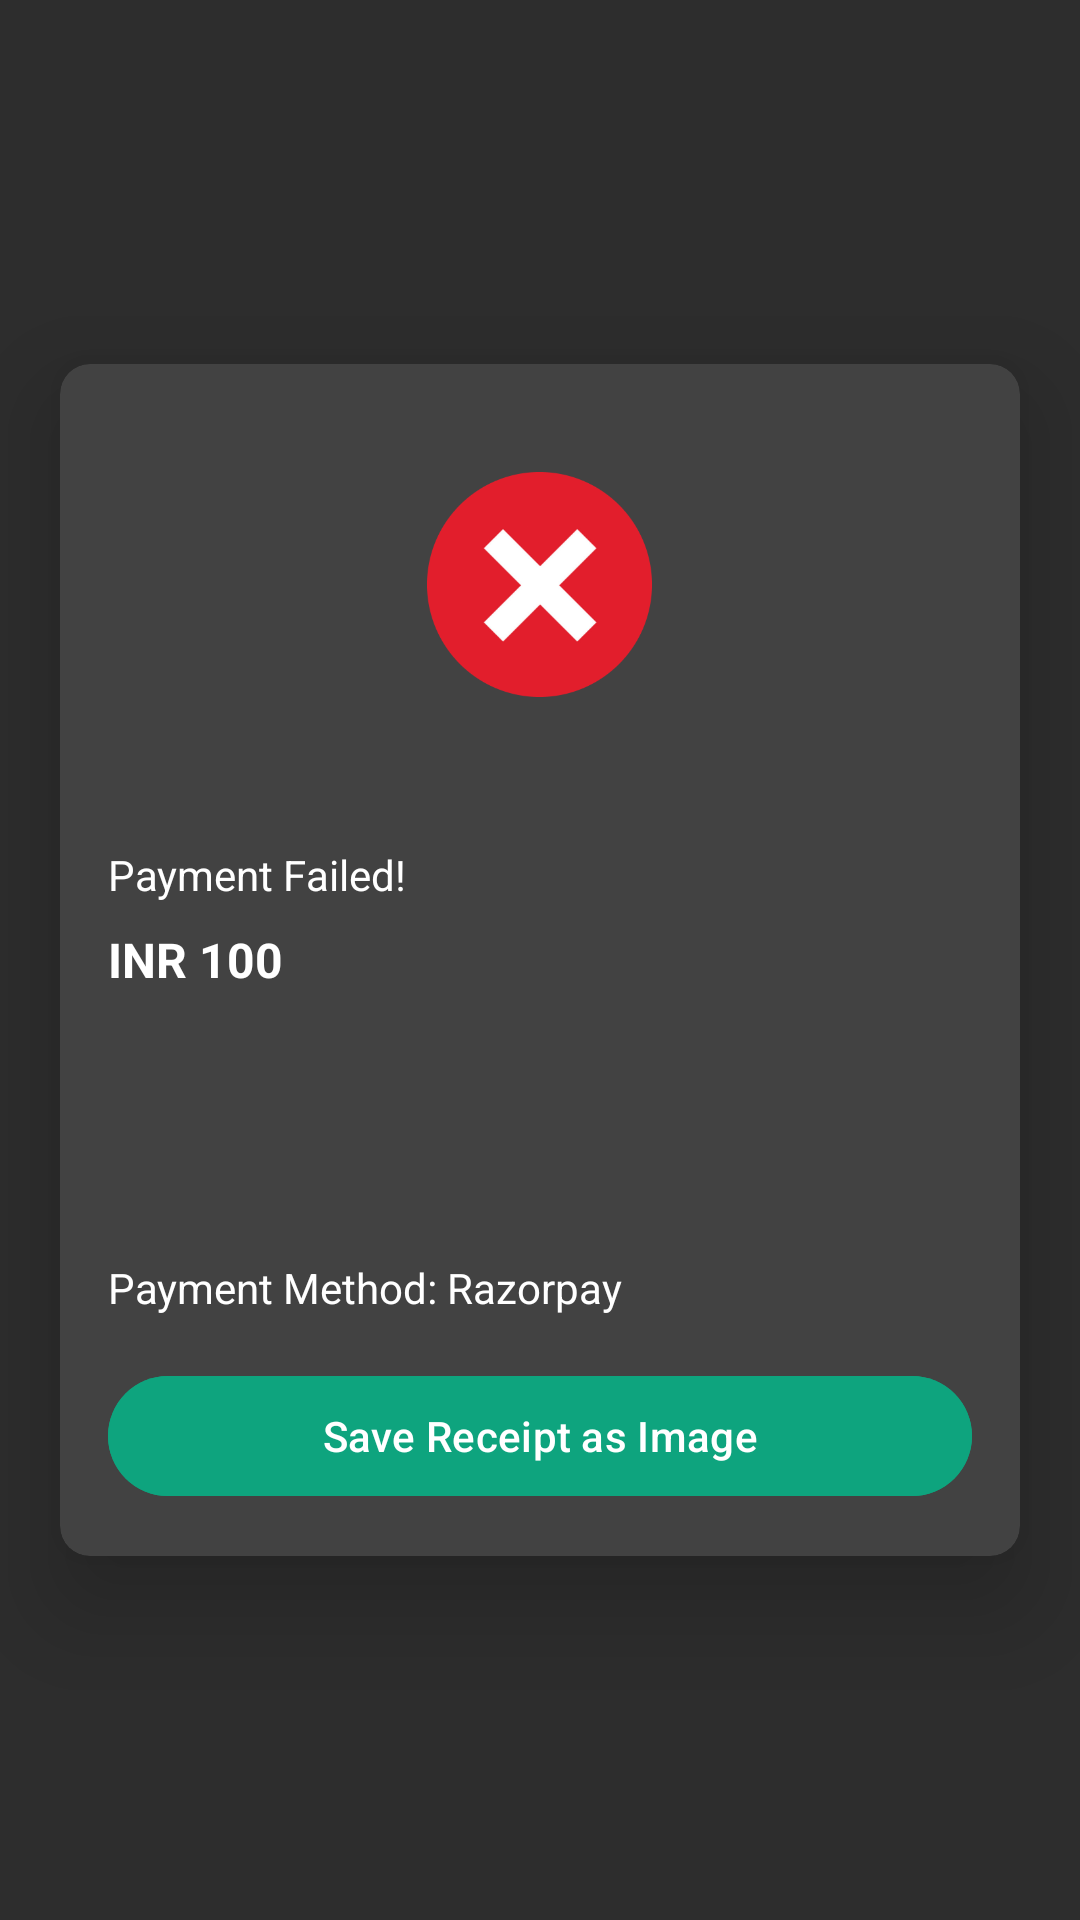

Named icons in this screenshot (1080x1920) and their centers, [x,y]:
wrong: [539,584]
